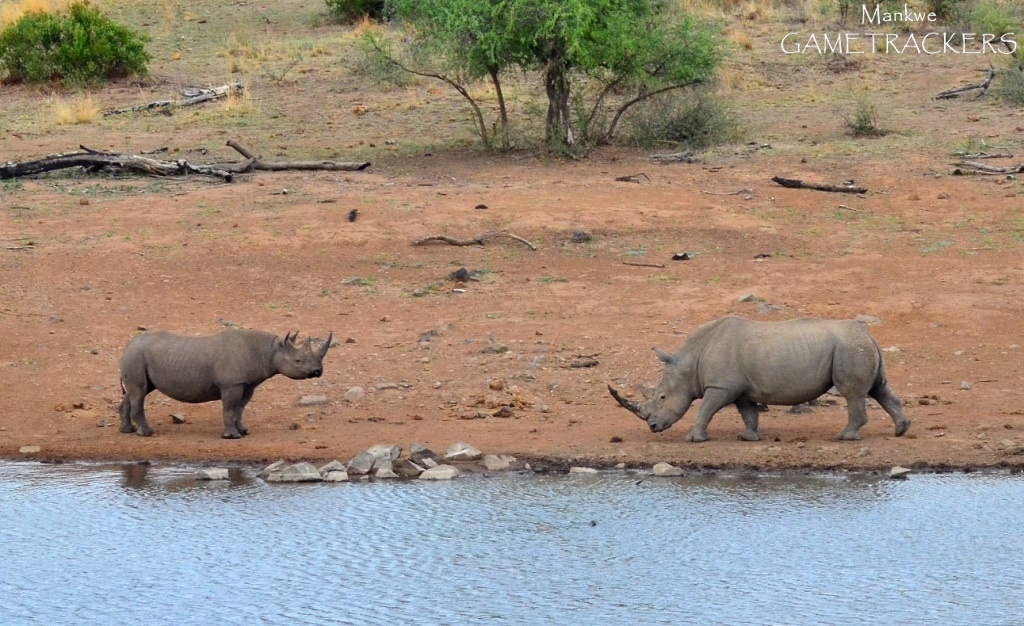rhino: (603, 310, 912, 444), (114, 324, 335, 441)
